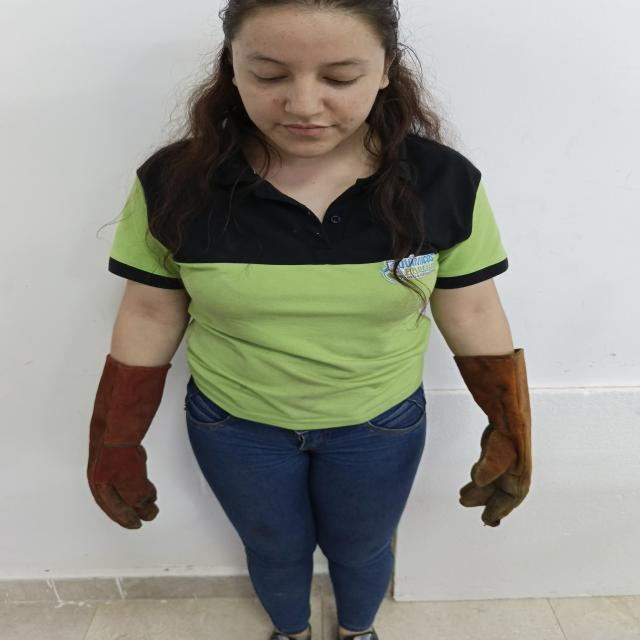gloves: (87, 355, 170, 529), (454, 349, 532, 527)
